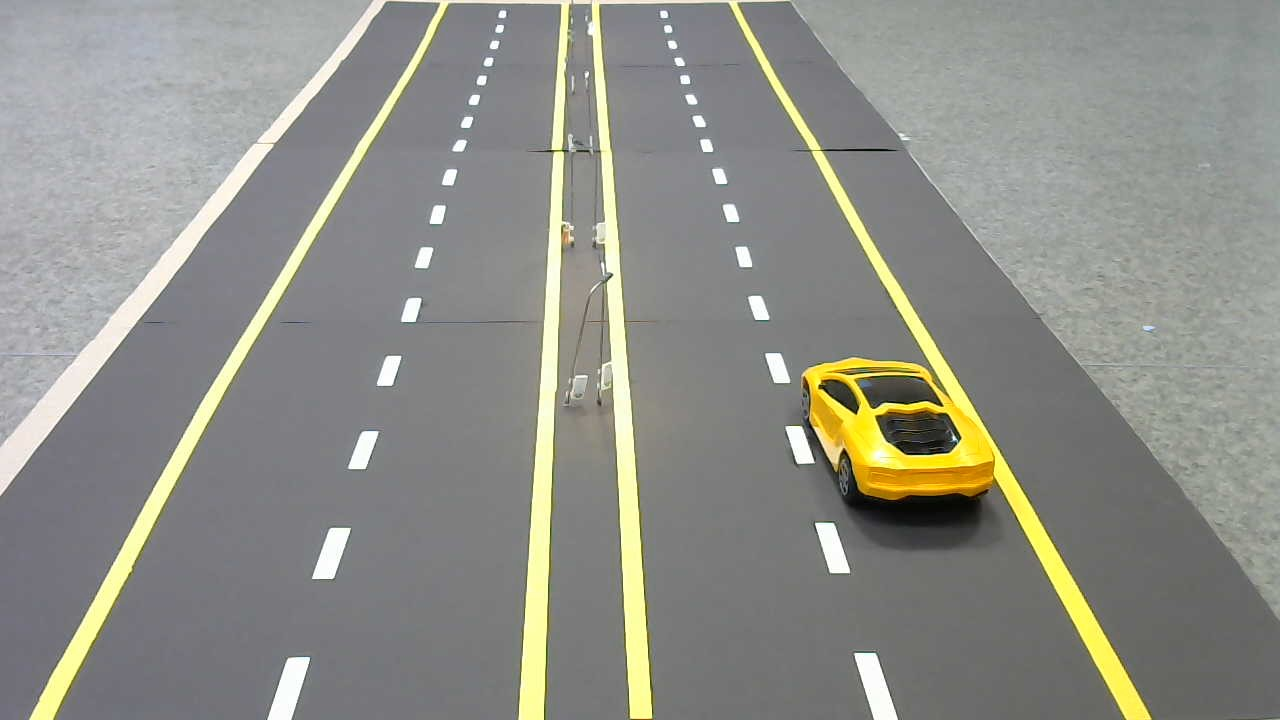back_car: (790, 349, 1001, 508)
